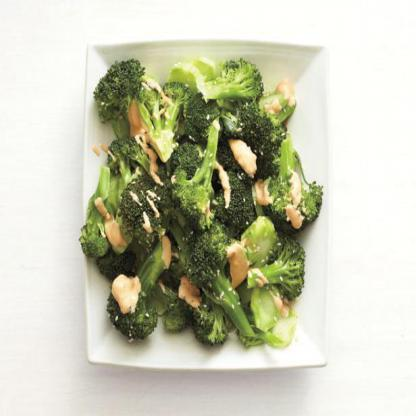broccoli: (79, 57, 324, 348)
